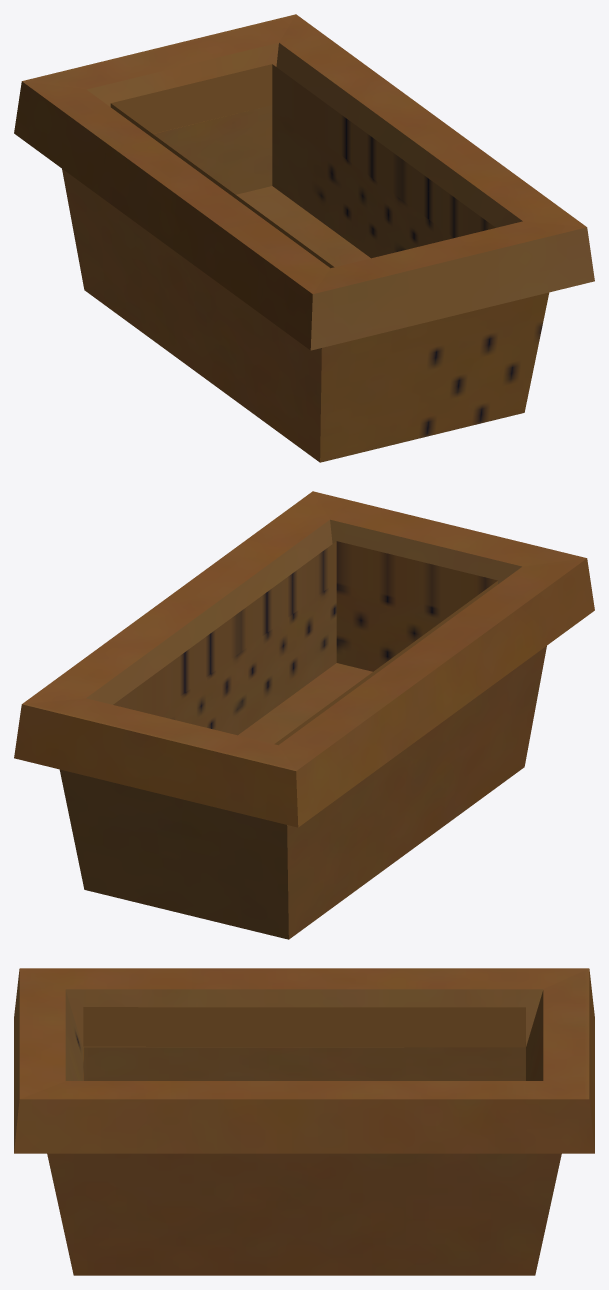
The model's file is CheeseMoldEmpty2.fbx.
The picture shows the model from 3 angles, top to bottom: view 1: azimuth 30°, elevation 25°; view 2: azimuth 150°, elevation 25°; view 3: azimuth 270°, elevation 25°; orthographic projection. The views are drawn at different scales.
Parts seen in each view (by area): view 1: Cube.001; view 2: Cube.001; view 3: Cube.001.
Part boxes in pixels (x1,y1,x2,y2): Cube.001: (14,14,594,462); Cube.001: (14,491,594,939); Cube.001: (14,968,594,1275).
Bounding box in the file's own units: 0.1946 × 0.1291 × 0.3519.
